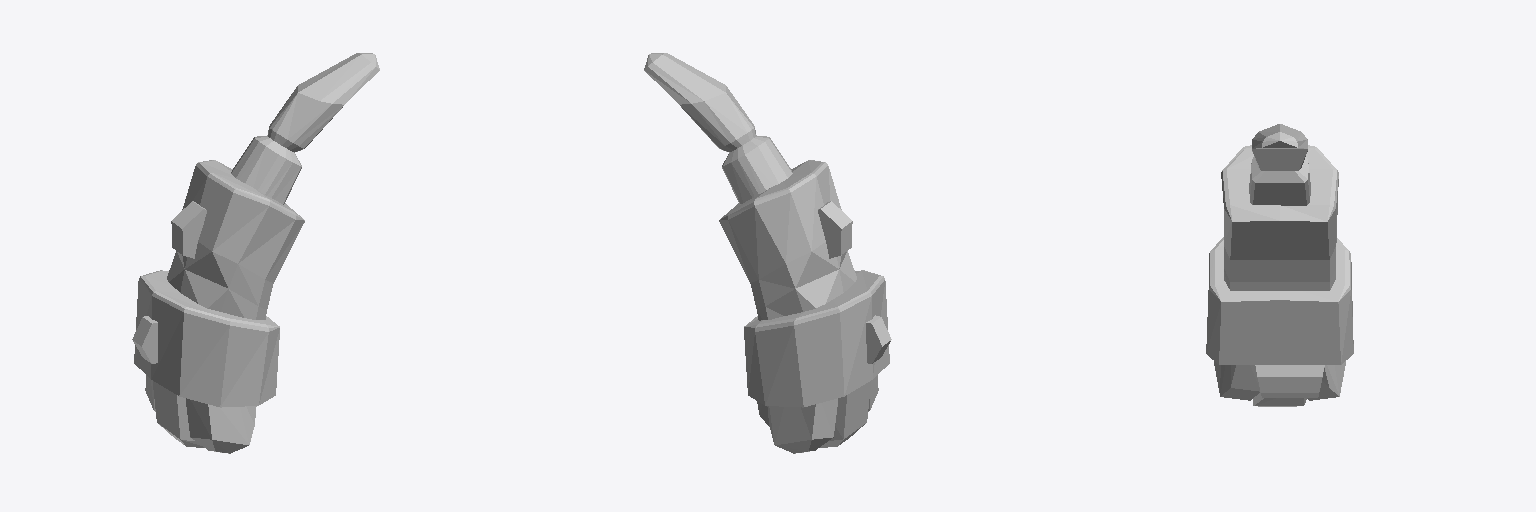
File: character_skeleton_archer_armRight.obj
3 views of the same model, side by side, from view 1: azimuth 30°, elevation 25°; view 2: azimuth 150°, elevation 25°; view 3: azimuth 270°, elevation 25° (orthographic).
Visible parts, largest first — view 1: character_skeleton_archer_armRight_Cube.7663; view 2: character_skeleton_archer_armRight_Cube.7663; view 3: character_skeleton_archer_armRight_Cube.7663.
Part boxes in pixels (x1,y1,x2,y2): character_skeleton_archer_armRight_Cube.7663: (132,53,379,453); character_skeleton_archer_armRight_Cube.7663: (644,53,891,453); character_skeleton_archer_armRight_Cube.7663: (1206,124,1353,406).
Bounding box in the file's own units: 0.417 × 0.5879 × 0.224.